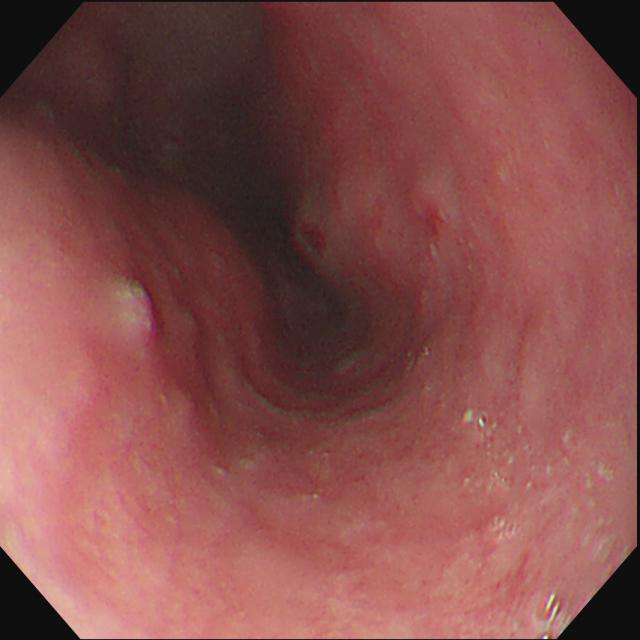A: (291, 159, 474, 292)
E: (171, 133, 381, 375)
J: (108, 269, 162, 348)
T: (524, 580, 575, 640), (474, 409, 502, 447)
